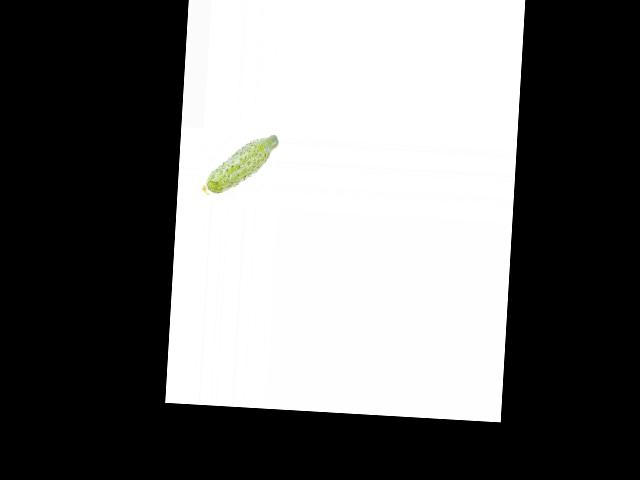cucumber: (201, 130, 278, 198)
